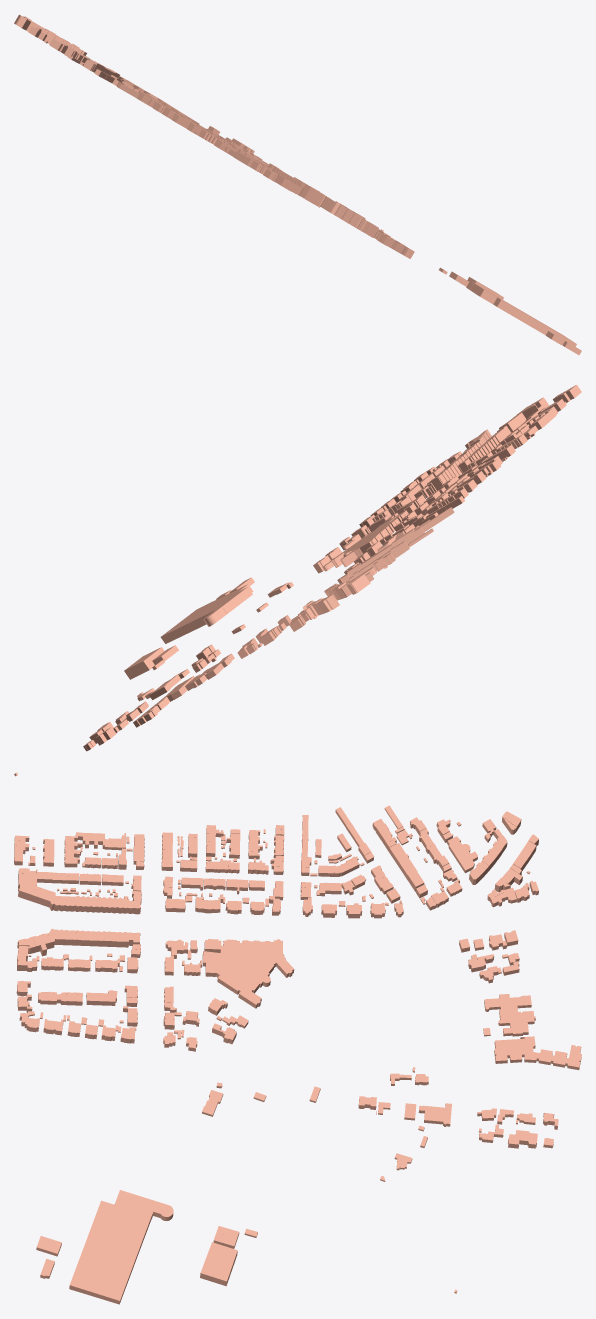
3 renders of one model, top to bottom at view 1: azimuth 30°, elevation 25°; view 2: azimuth 150°, elevation 25°; view 3: azimuth 270°, elevation 25°, orthographic. The views are drawn at different scales.
Size of the model in its own units: 523 by 385 by 643.
